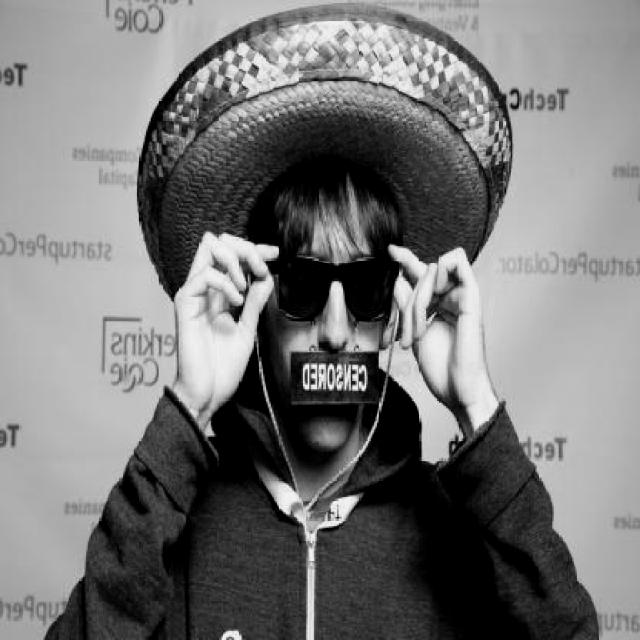glasses: (254, 238, 409, 331)
hand_noglove: (164, 227, 284, 408), (388, 239, 488, 398)
head_nohelmet: (239, 119, 435, 224)
person: (65, 35, 568, 640)
